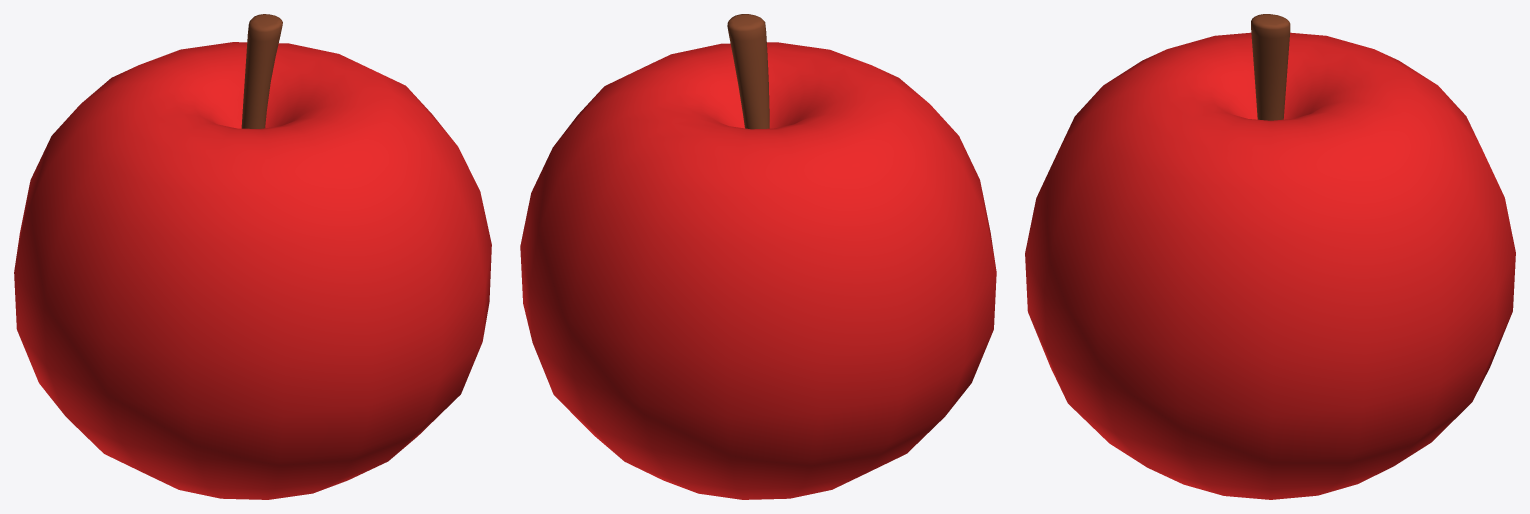
File: apple-nd-1.fbx
3 renders of one model, left to right at view 1: azimuth 30°, elevation 25°; view 2: azimuth 150°, elevation 25°; view 3: azimuth 270°, elevation 25°, orthographic. The views are drawn at different scales.
Parts seen in each view (by area): view 1: apple-nd; view 2: apple-nd; view 3: apple-nd.
Boxes of the visible parts, x1,y1,x2,y2 form: apple-nd: [14, 14, 491, 499]; apple-nd: [520, 14, 996, 499]; apple-nd: [1025, 14, 1515, 499].
Size of the model in its own units: 9.38 by 9.39 by 9.32.
